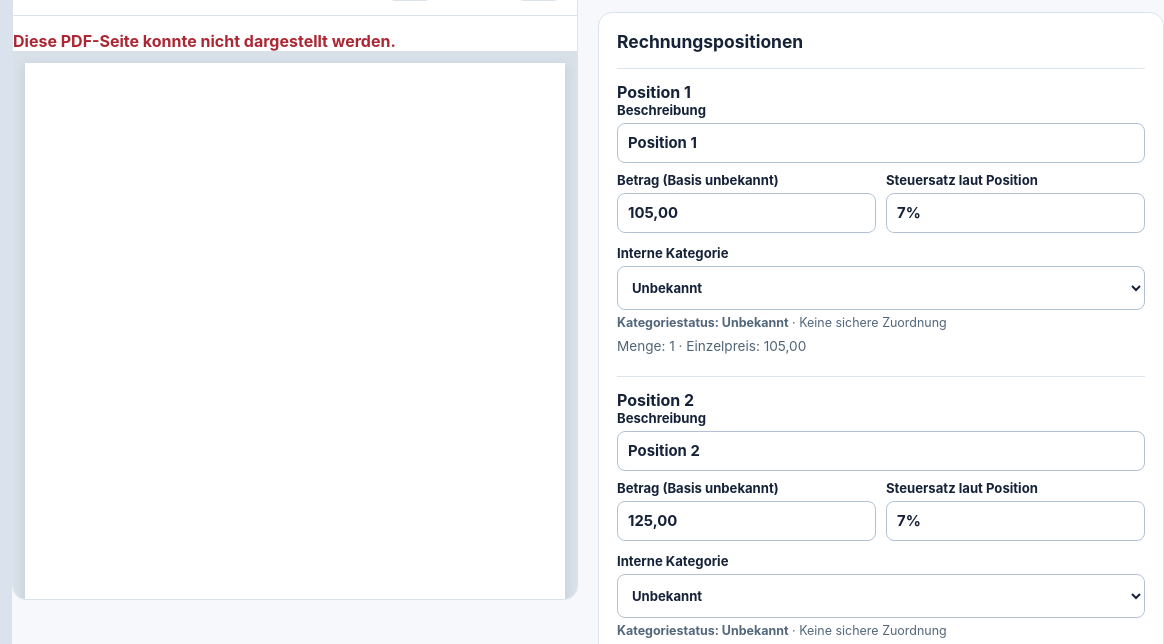
Test case: position sum in the browser invoice review › shows category totals and reassigns an amount immediately when a category changes
The image size is (1164, 644).
(page scrolled)
Step 1. Select "Übernachtung" in the dropdown named "Position 1 Kategorie" → (881, 288), box left=617, top=266, right=1145, bottom=310
(page scrolled)
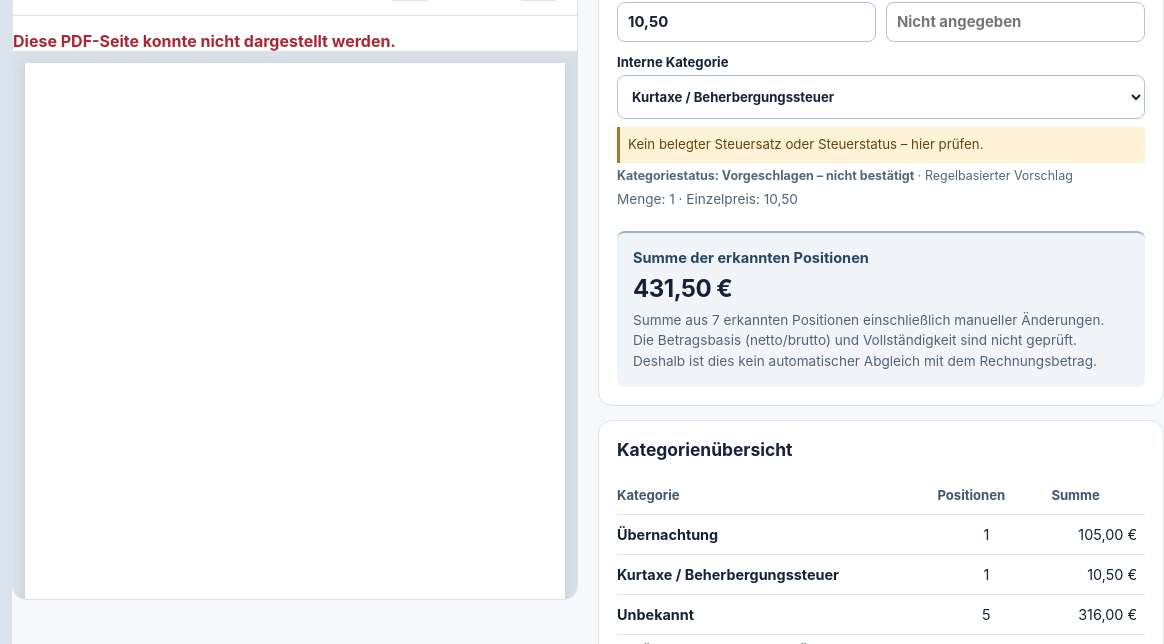
Now the table shows "Übernachtung", box left=617, top=526, right=718, bottom=543
Now the table shows "105,00 €", box left=1078, top=526, right=1137, bottom=543
Now the table shows "316,00 €", box left=1078, top=606, right=1137, bottom=623
